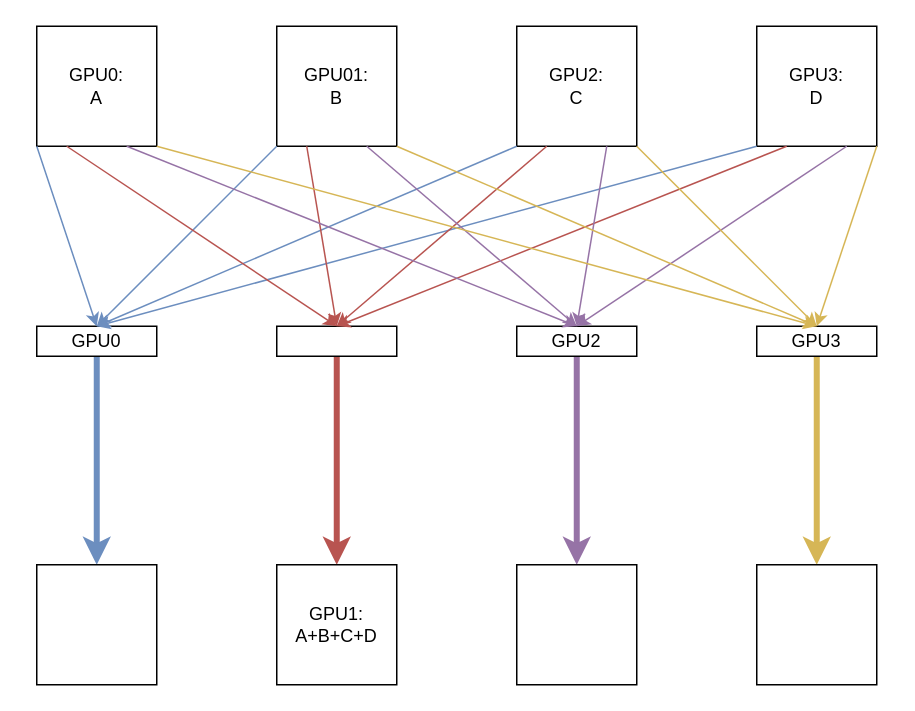
This 915x711 diagram has some shape labels left out. The box of each missing label's shape, as (x1, y1, x2, y2) in pixels:
GPU0: A+B+C+D: (35, 563, 157, 685)
GPU1: (275, 325, 397, 356)
GPU2: A+B+C+D: (515, 563, 637, 685)
GPU3: A+B+C+D: (755, 563, 877, 685)
